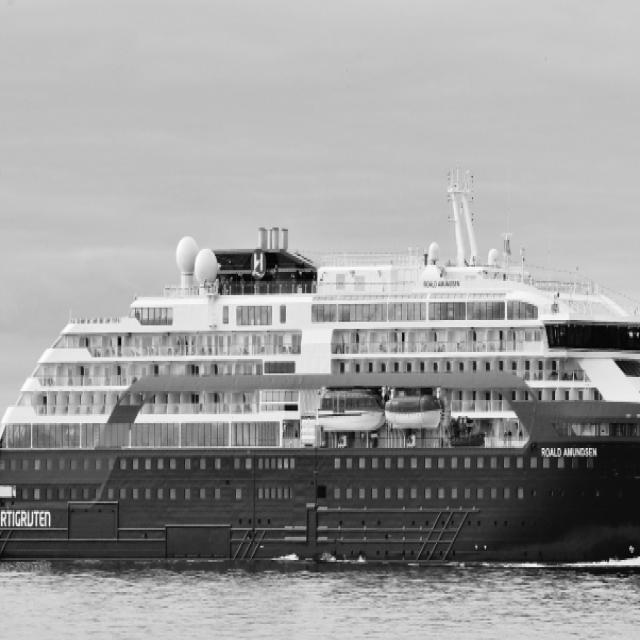cruises: (1, 181, 640, 583)
